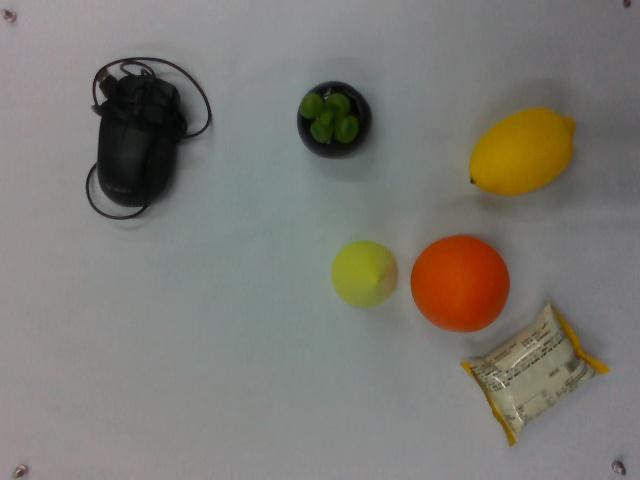cone: (328, 237, 401, 311)
dessert: (465, 304, 609, 449)
lemon: (463, 102, 580, 203)
mangosteen: (291, 81, 375, 164)
mouse: (81, 57, 211, 223)
orange: (408, 232, 513, 337)
